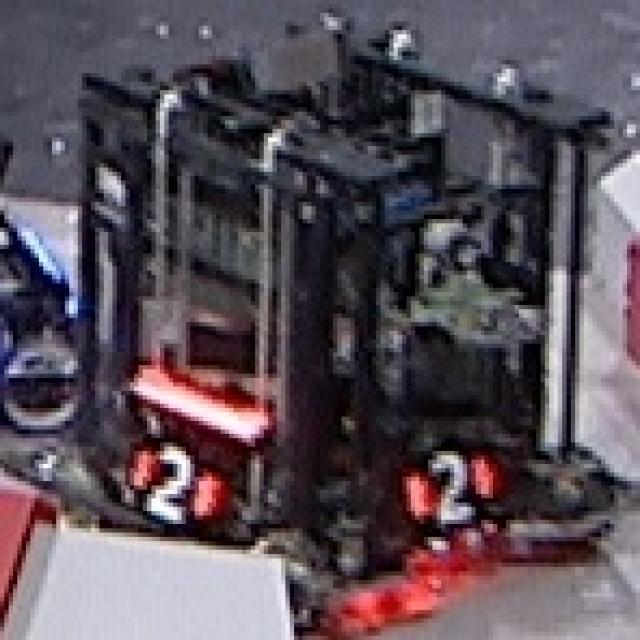R2: (121, 434, 216, 520), (398, 451, 497, 528)
